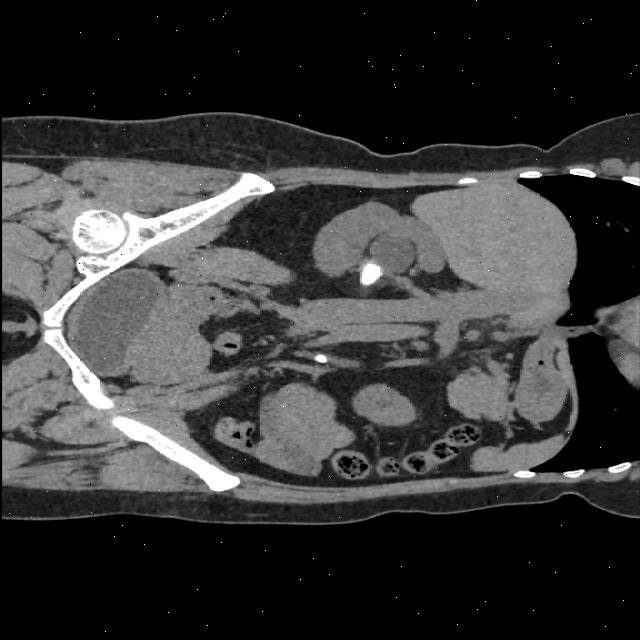kidneystone: (361, 262, 382, 285)
